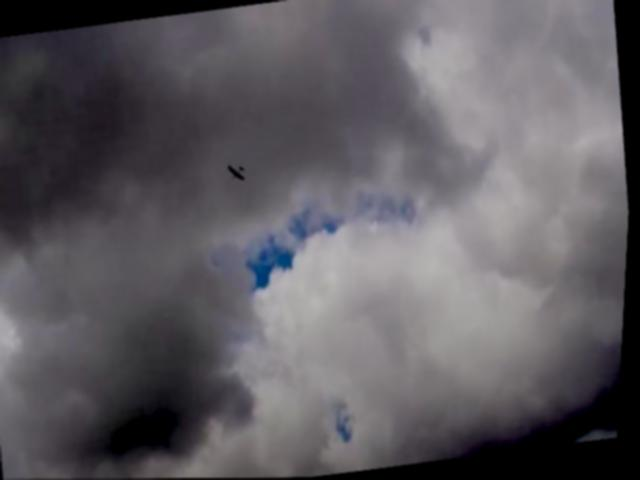iha: (227, 164, 248, 184)
